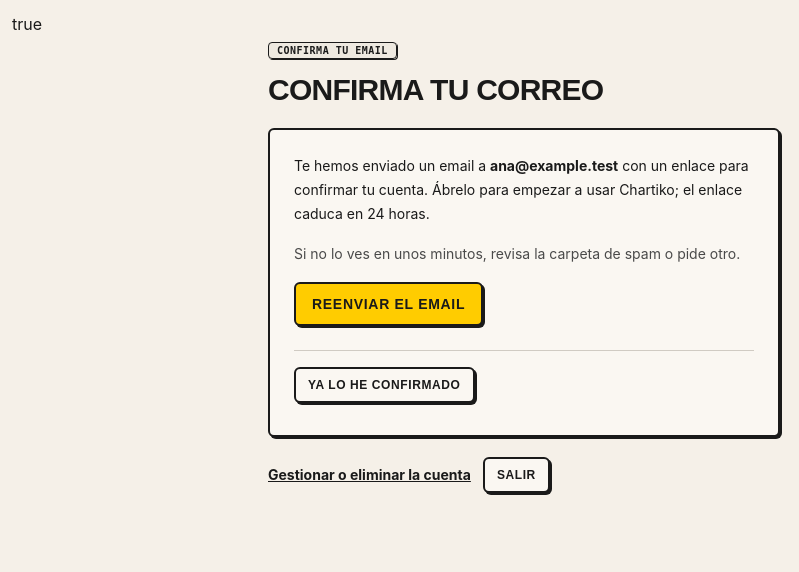
Test: VerifyEmailNotice › shows the localized 429 from the server
Click the button "Reenviar el email" at (389, 304), box top-left (294, 282), bottom-right (483, 326)
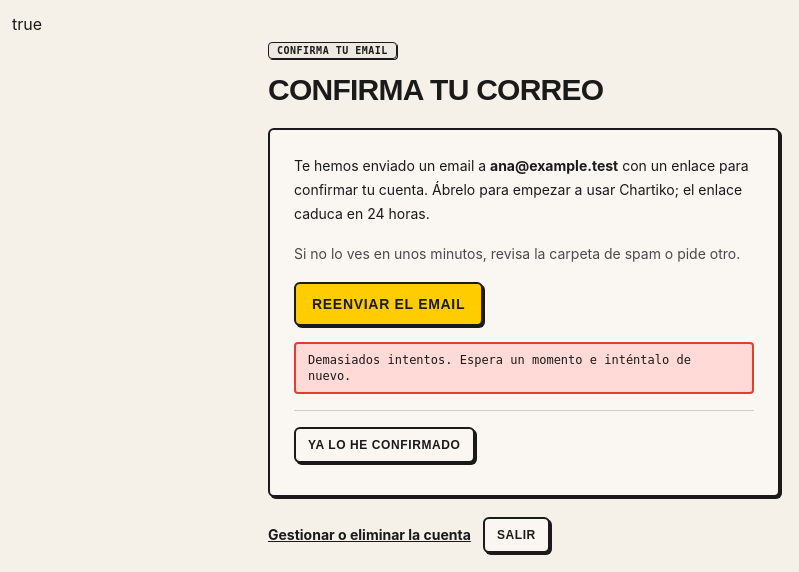
Check: the message reads "Demasiados intentos. Espera un momento e inténtalo de nuevo.", box top-left (308, 353), bottom-right (691, 383)
